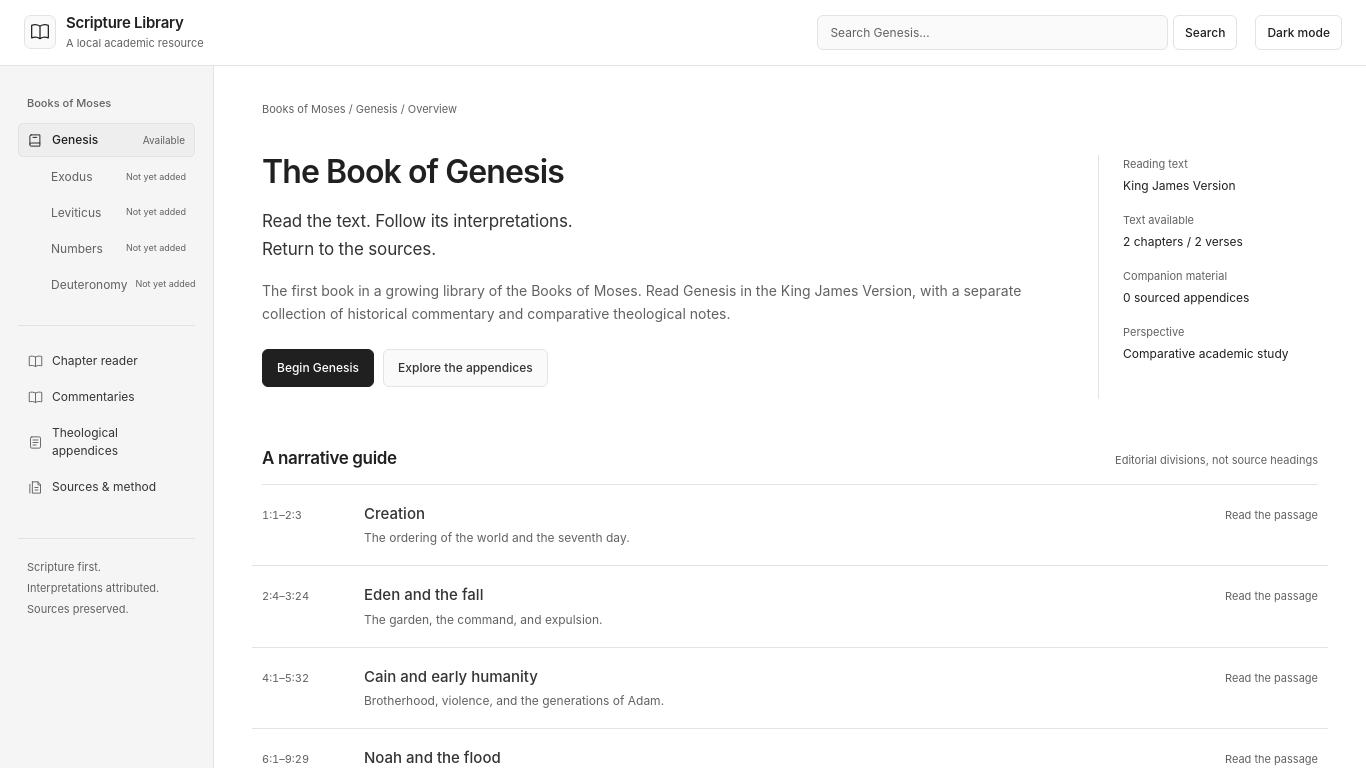
Test: lazily opens the work catalog with actual coverage, source links and acquisition gaps
The width and height of the screenshot is (1366, 768).
Check: the heading "The Book of Genesis" is shown, box 262,152 -> 564,191
Step 1. Click the link "Commentaries" → point(81, 397), box 28,389 -> 135,405
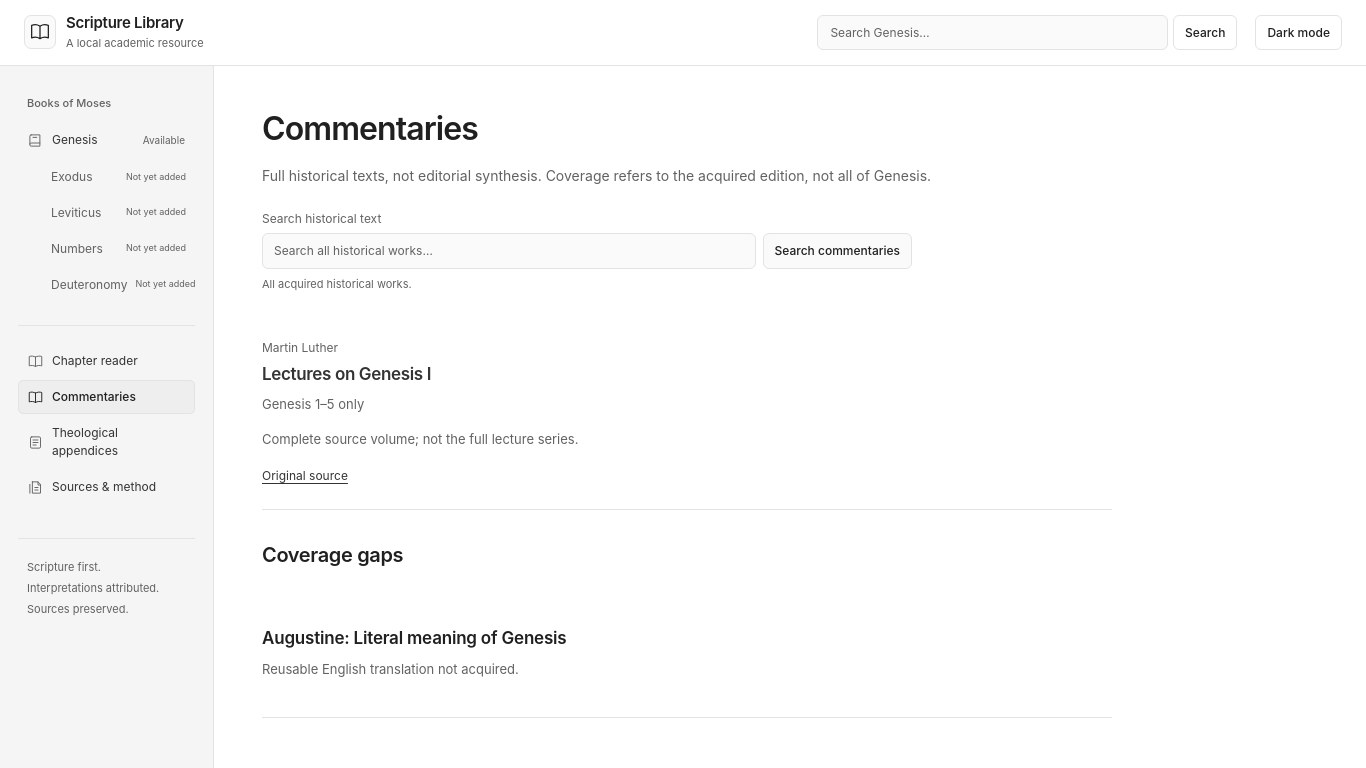
Check: the link "Lectures on Genesis I" is shown, box 262,364 -> 431,384
Check: the text "Genesis 1–5 only" is shown, box 262,396 -> 364,412
Check: the text "Complete source volume; not the full lecture series." is shown, box 262,431 -> 578,447
